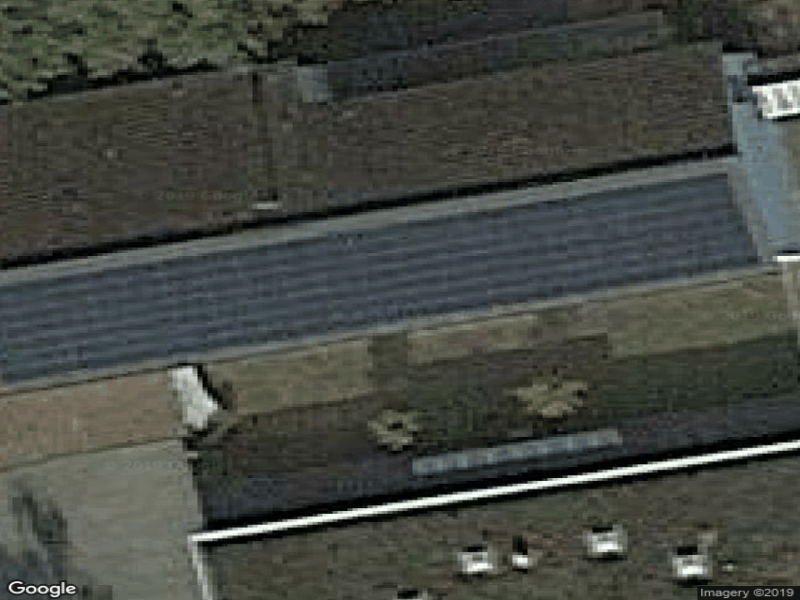pv: (3, 174, 753, 385)
